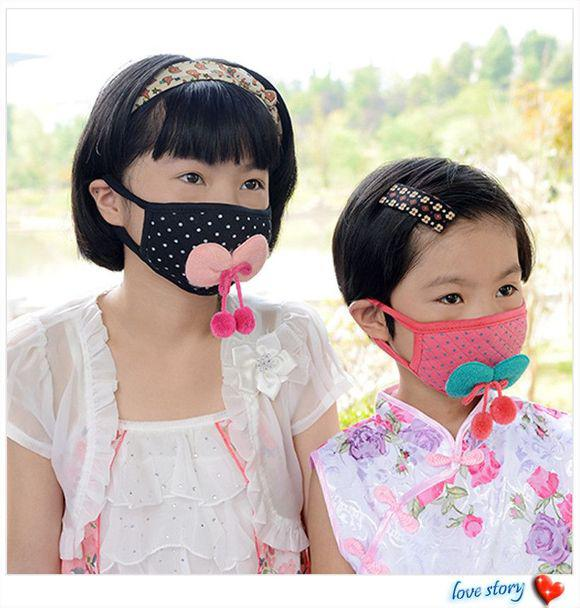OK: (131, 151, 273, 292), (390, 258, 530, 398)
